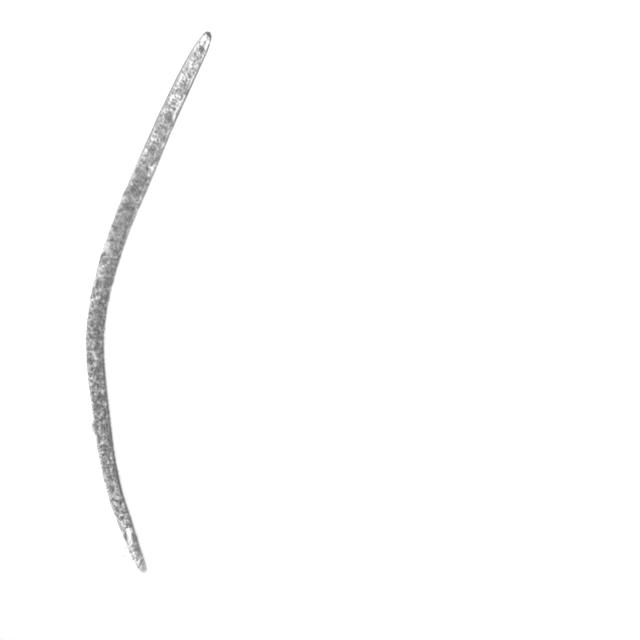Pratylenchus: (71, 27, 221, 579)
